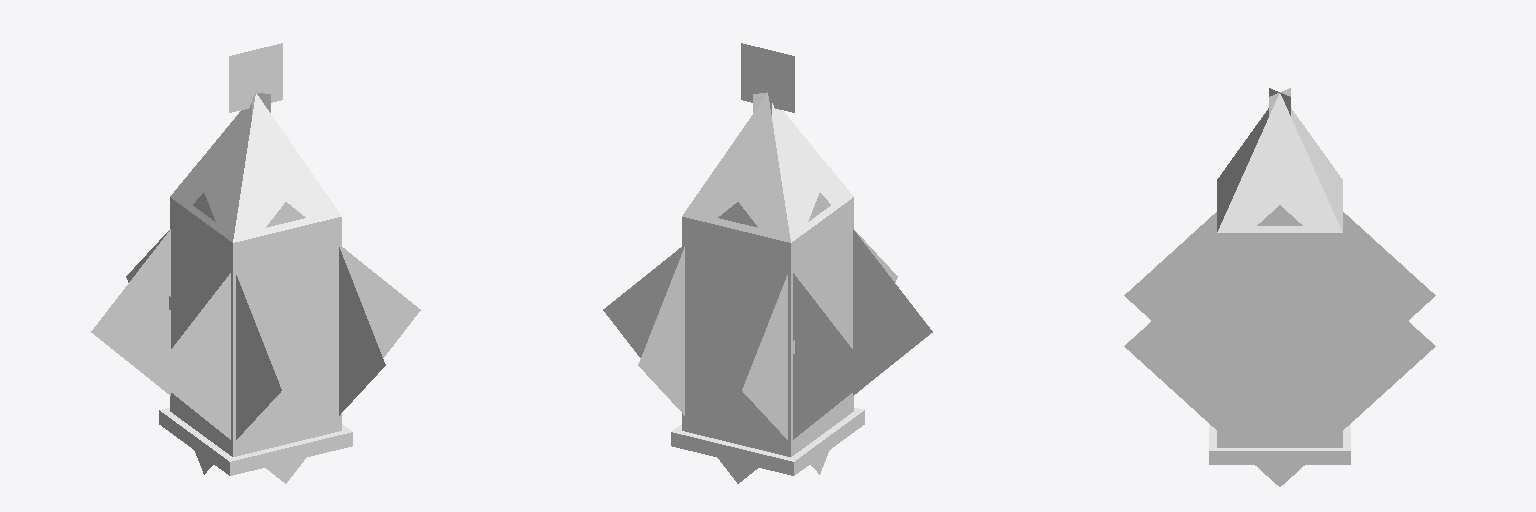
File: candle_lantern_hanging.obj
3 views of the same model, side by side, from view 1: azimuth 30°, elevation 25°; view 2: azimuth 150°, elevation 25°; view 3: azimuth 270°, elevation 25° (orthographic).
Parts seen in each view (by area): view 1: hull, holes-sides, holes-sides.001, base, ring; view 2: hull, holes-sides, holes-sides.001, base, ring; view 3: hull, holes-sides.001, base.
Boxes of the visible parts, x1=… form: hull: x1=170, y1=93, x2=341, y2=456; holes-sides: x1=91, y1=202, x2=420, y2=483; holes-sides.001: x1=126, y1=193, x2=385, y2=474; base: x1=159, y1=408, x2=352, y2=475; ring: x1=229, y1=43, x2=282, y2=112; hull: x1=682, y1=93, x2=853, y2=456; holes-sides: x1=603, y1=202, x2=932, y2=483; holes-sides.001: x1=638, y1=193, x2=897, y2=474; base: x1=671, y1=408, x2=864, y2=475; ring: x1=741, y1=43, x2=794, y2=112; hull: x1=1217, y1=94, x2=1342, y2=447; holes-sides.001: x1=1124, y1=205, x2=1435, y2=486; base: x1=1209, y1=424, x2=1350, y2=464.
Size of the model in its own units: 0.6497 by 0.9483 by 0.6497.